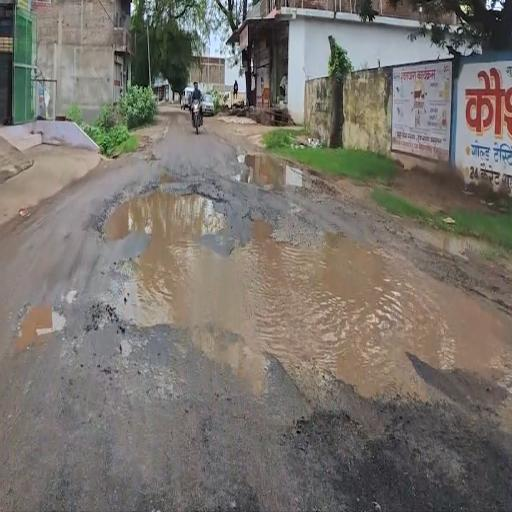pothole: (86, 121, 512, 425), (2, 287, 74, 377)
ravelling: (40, 443, 507, 508)
